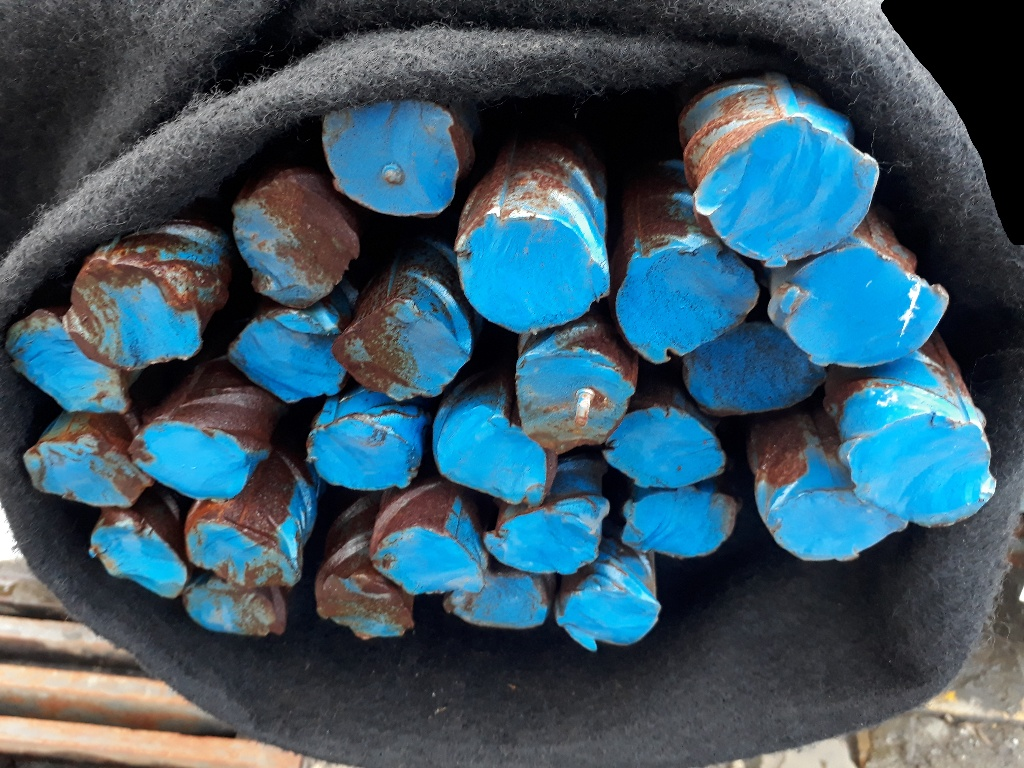dipstick: (688, 116, 878, 270), (762, 243, 950, 368), (452, 212, 611, 334), (230, 166, 360, 309), (849, 408, 999, 527), (614, 243, 758, 362), (322, 97, 458, 218), (66, 259, 204, 372), (332, 298, 472, 403), (3, 310, 141, 414), (681, 320, 833, 414), (513, 350, 633, 454), (773, 485, 914, 567), (228, 310, 349, 405), (603, 403, 727, 489), (439, 415, 550, 507), (128, 422, 250, 503), (483, 495, 608, 574), (22, 436, 156, 509), (304, 414, 422, 492), (184, 514, 304, 589), (87, 514, 191, 599), (621, 490, 741, 561), (372, 526, 488, 599), (557, 586, 662, 657), (314, 569, 415, 642), (442, 572, 551, 630), (184, 581, 291, 637)
